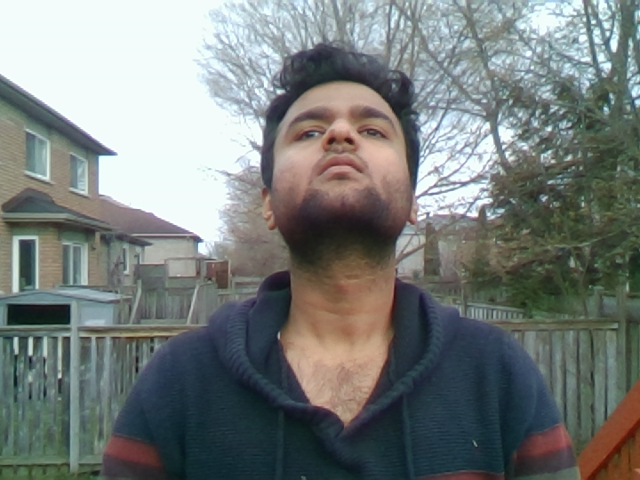Without Mask: (257, 129, 441, 254)
